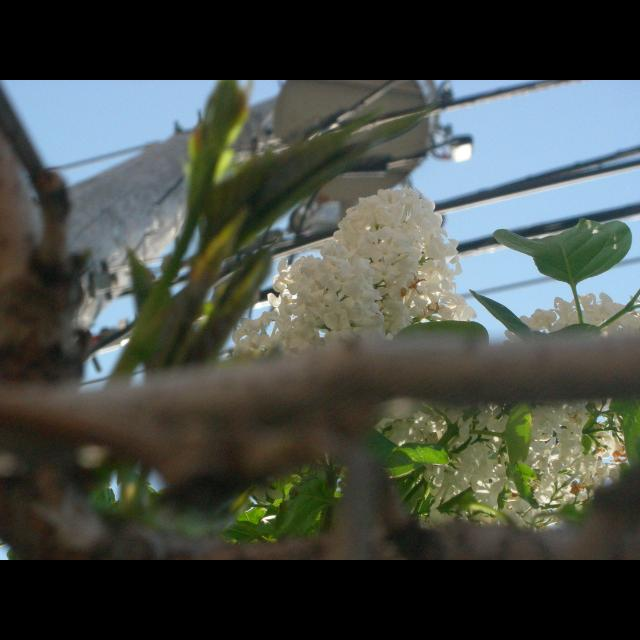Flower: (224, 183, 476, 364), (375, 400, 625, 528), (505, 292, 635, 338), (458, 442, 496, 494)
